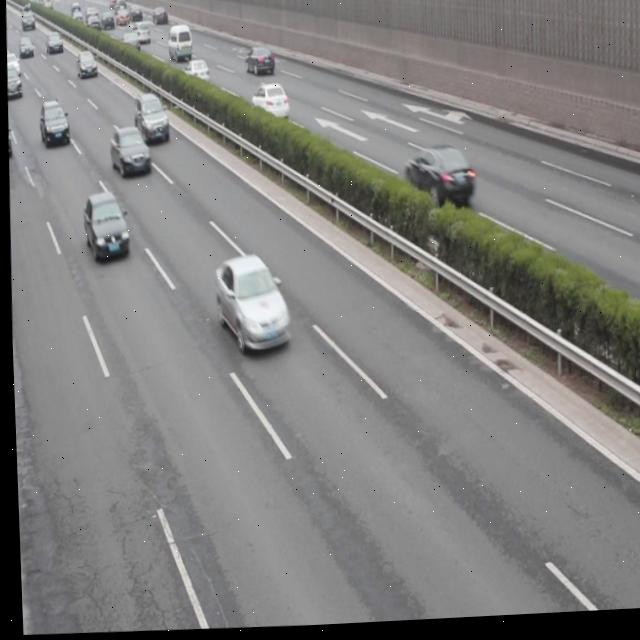car: (210, 252, 288, 359), (401, 145, 473, 214), (80, 190, 128, 265), (108, 126, 150, 181), (132, 92, 169, 147), (37, 98, 70, 151), (248, 84, 287, 126), (242, 44, 275, 81), (177, 59, 210, 95)
